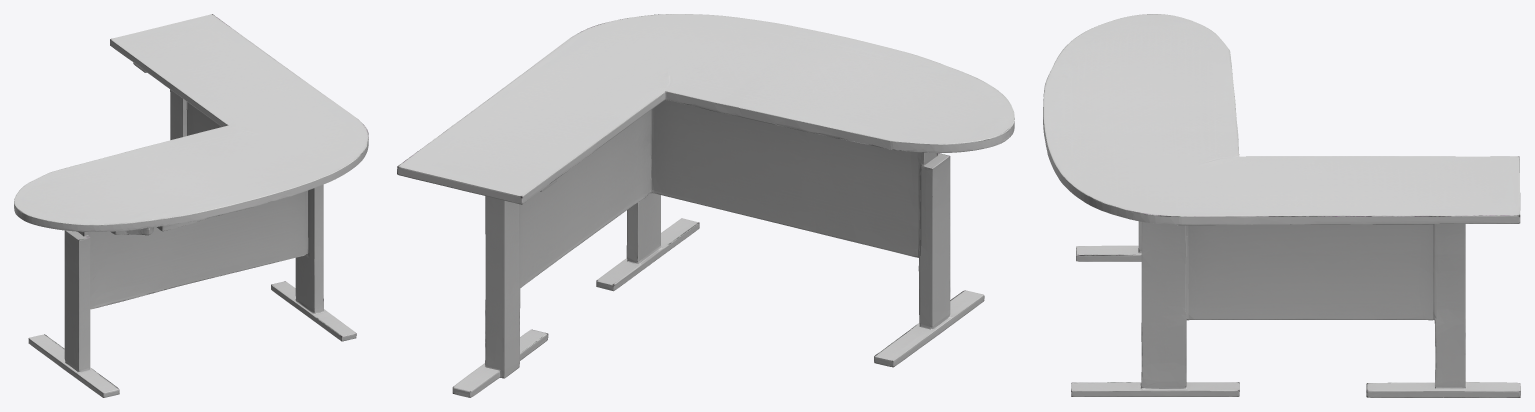
File: office desk eng.glb
The picture shows the model from 3 angles, left to right: view 1: azimuth 30°, elevation 25°; view 2: azimuth 150°, elevation 25°; view 3: azimuth 270°, elevation 25°; orthographic projection. The views are drawn at different scales.
Visible parts, largest first — view 1: world; view 2: world; view 3: world.
Part boxes in pixels (x1,y1,x2,y2): world: (14, 14, 368, 397); world: (397, 14, 1014, 397); world: (1043, 14, 1520, 397).
Size of the model in its own units: 0.9987 by 0.4839 by 0.9993.
1 material, 1 textured.
